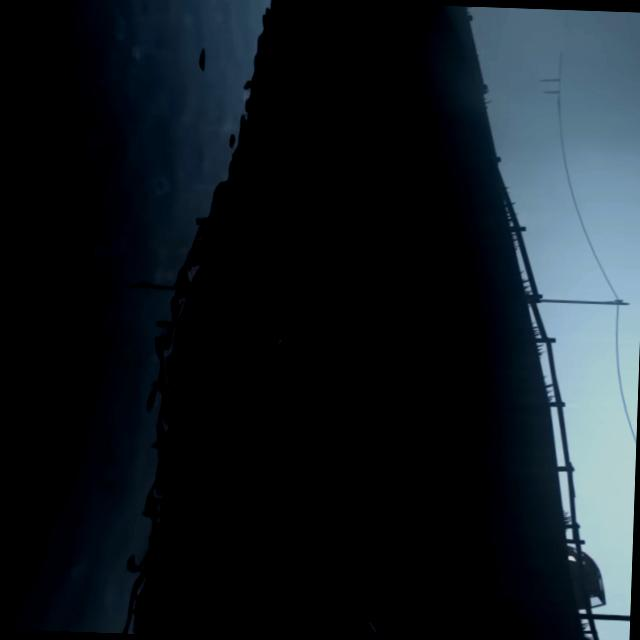boy: (272, 315, 286, 373)
